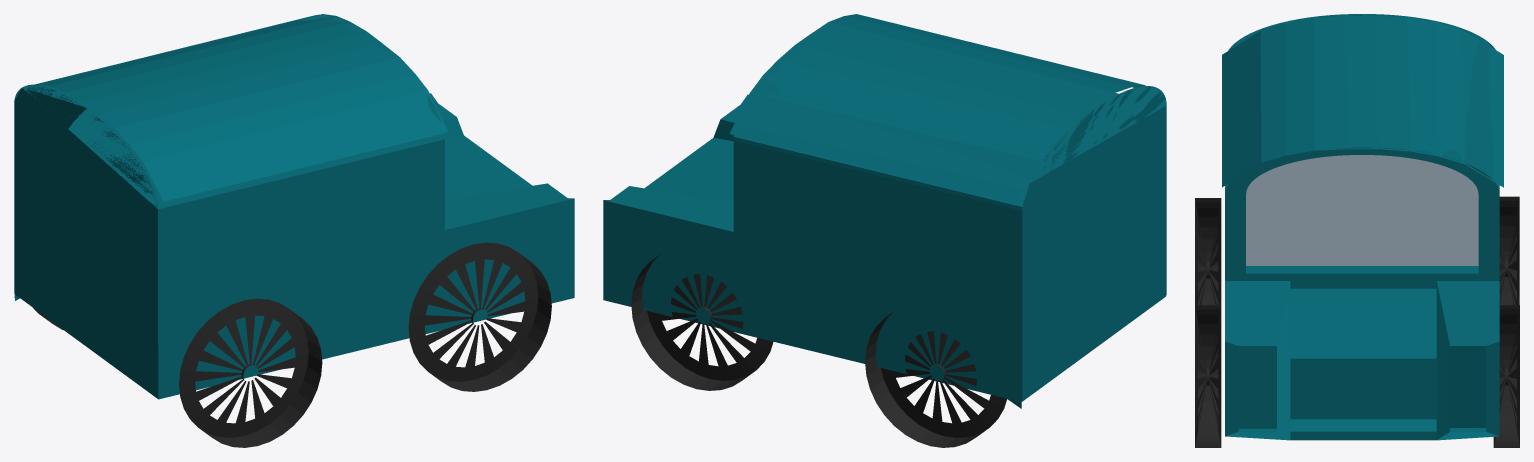
Rendered from caruntitled.fbx.
3 views of the same model, side by side, from view 1: azimuth 30°, elevation 25°; view 2: azimuth 150°, elevation 25°; view 3: azimuth 270°, elevation 25° (orthographic). The views are drawn at different scales.
Parts seen in each view (by area): view 1: Body, FR, RR; view 2: Body, FL, RL; view 3: Body, FR, FL, RR, RL.
Part boxes in pixels (x1,y1,x2,y2): Body: [14, 14, 574, 399]; FR: [408, 242, 551, 391]; RR: [179, 298, 322, 447]; Body: [603, 14, 1166, 408]; FL: [631, 254, 773, 390]; RL: [865, 311, 1006, 447]; Body: [1222, 14, 1503, 440]; FR: [1195, 305, 1221, 447]; FL: [1493, 305, 1519, 447]; RR: [1195, 198, 1221, 304]; RL: [1499, 196, 1519, 304].
Size of the model in its own units: 411 by 272 by 284.
